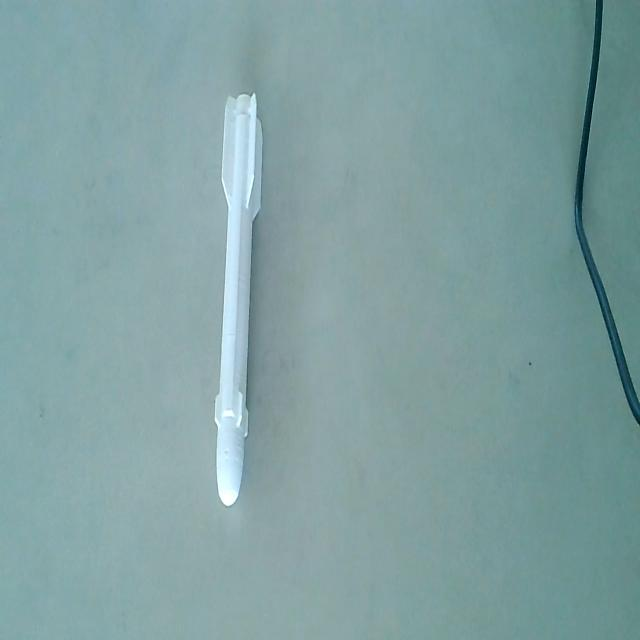Rocket: (212, 94, 264, 518)
